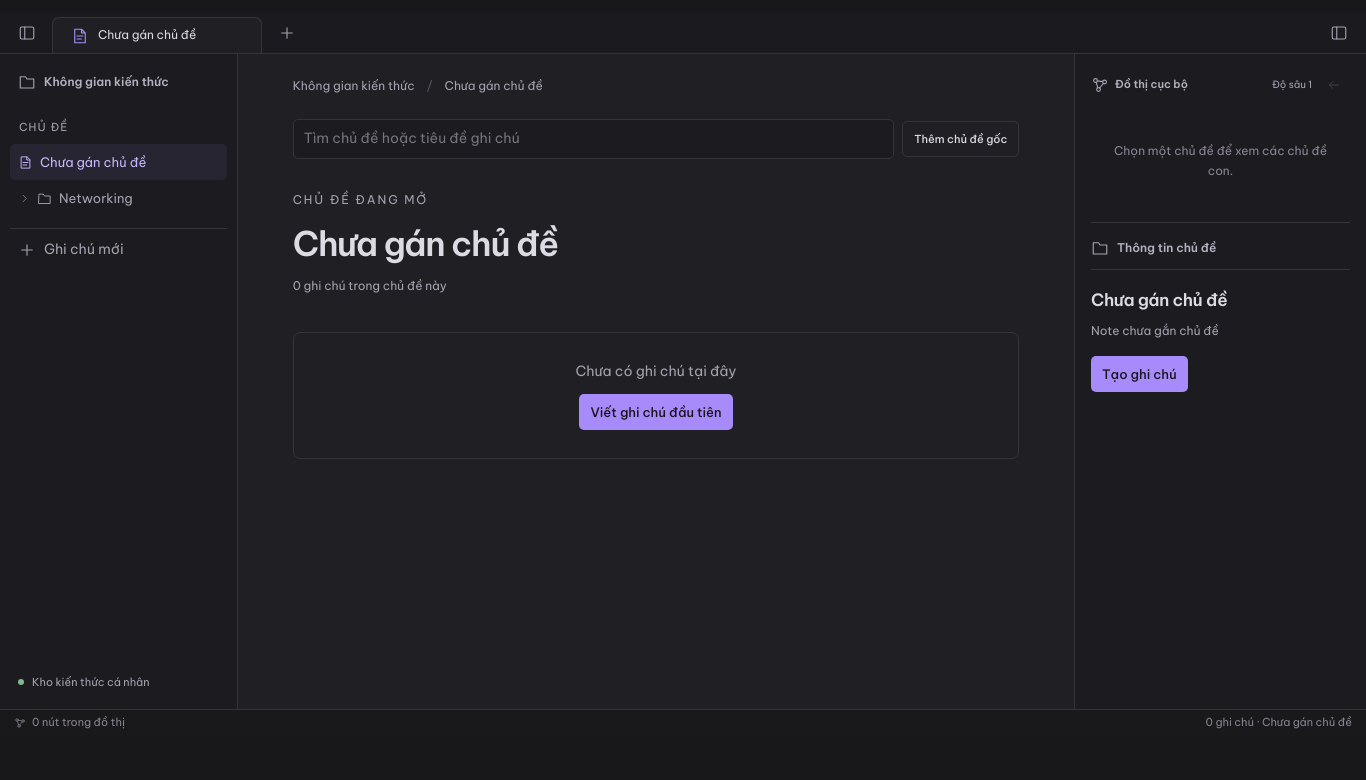
Test: HomePage explorer › deletes a note from the panel
The width and height of the screenshot is (1366, 780).
Click the button with aria-label "Mở chủ đề Networking" at point(118, 198), box [10, 180, 227, 216]
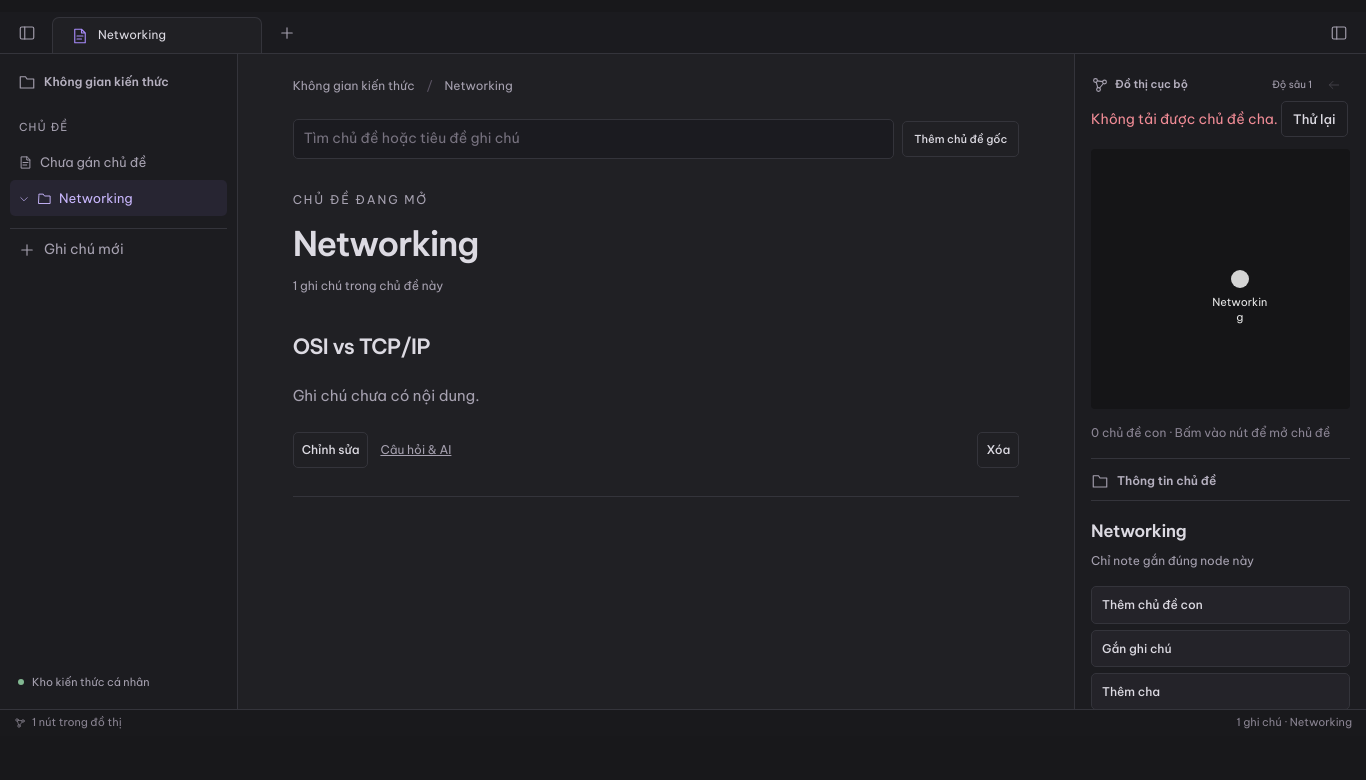
Expected: the link "OSI vs TCP/IP" is shown, [293, 333, 430, 360]
Click the button with aria-label "Xóa OSI vs TCP/IP" at point(998, 450), box [978, 432, 1019, 468]
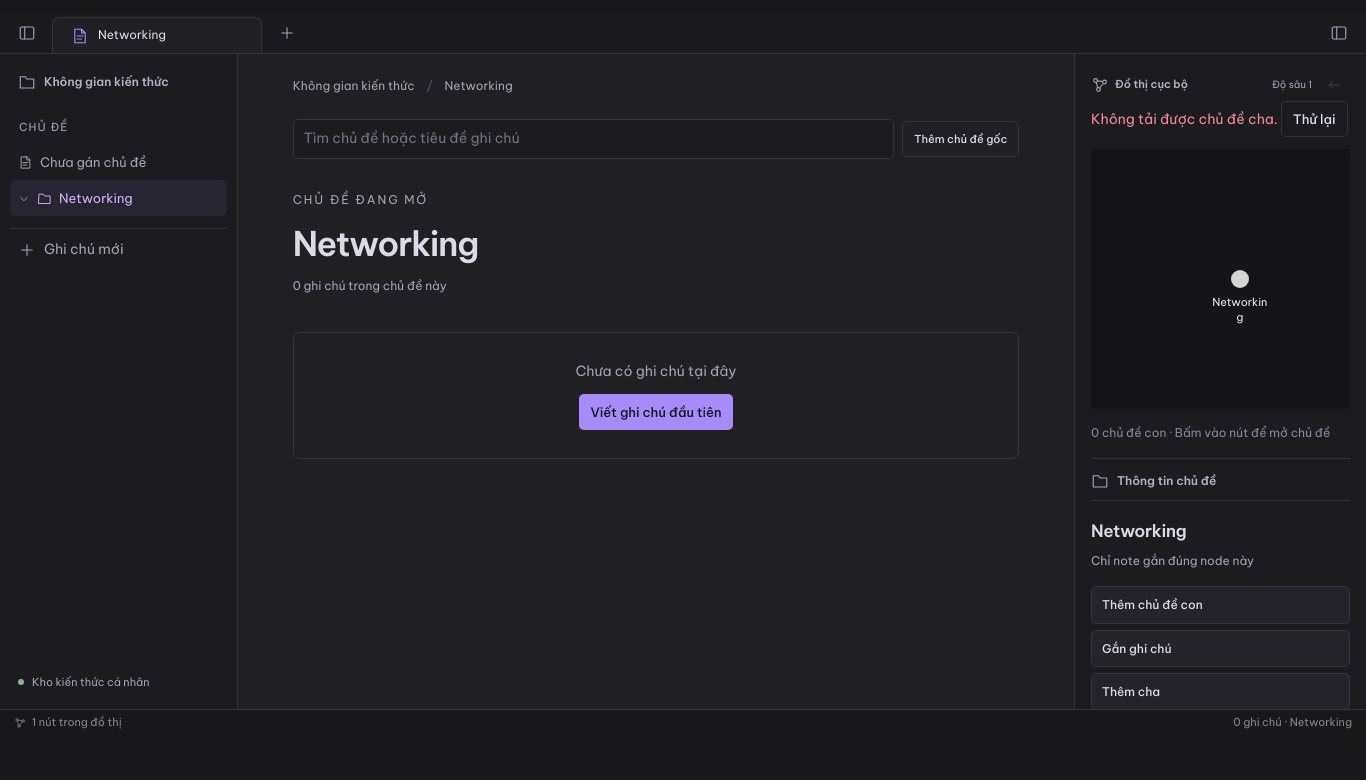
Expected: the link "OSI vs TCP/IP" is gone
